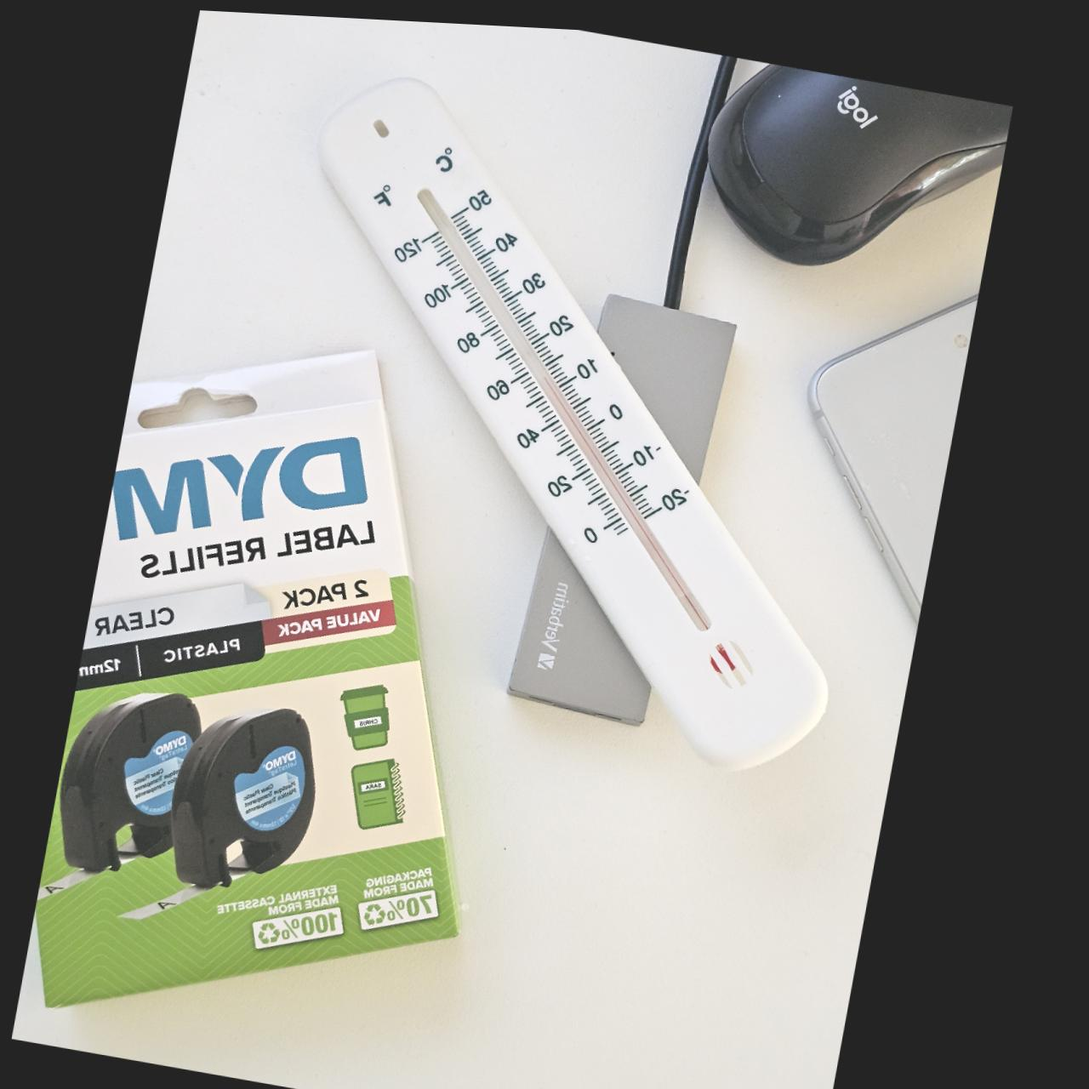thermometer: (199, 45, 941, 808)
